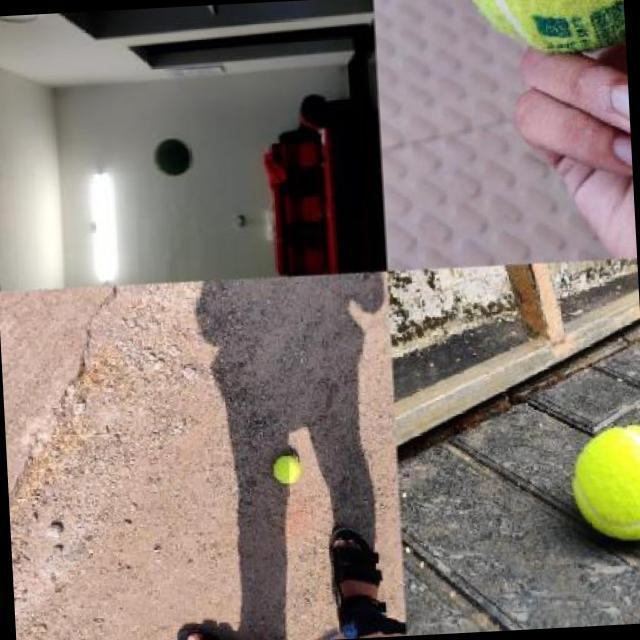-: (537, 405, 640, 592), (245, 442, 319, 501)
